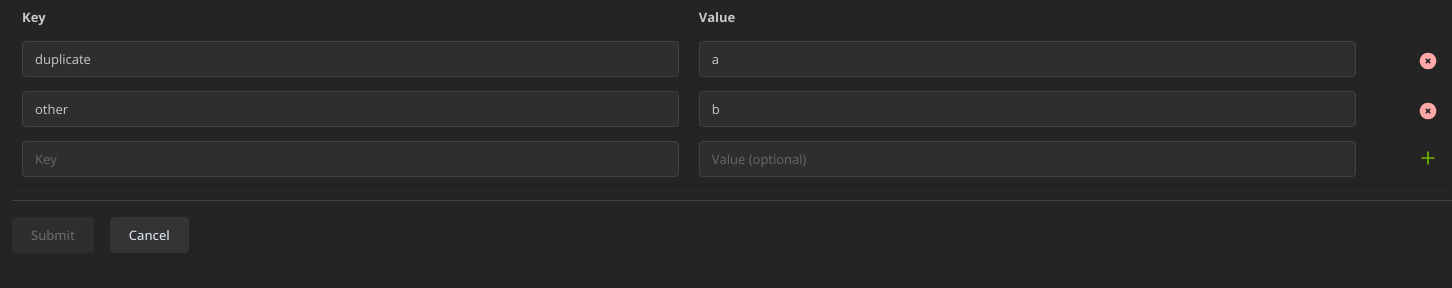
TagFormTable › disables submit when validation error exists
Add duplicate key
In the field with placeholder "Key": (350, 159) [22,141,679,177], type "duplicate"
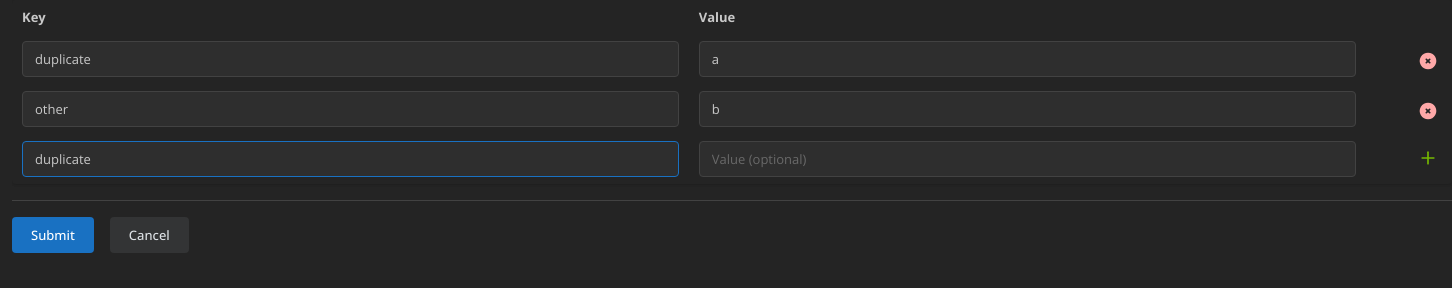
In the field with placeholder "Value (optional)": (1027, 159) [699,141,1356,177], type "val"
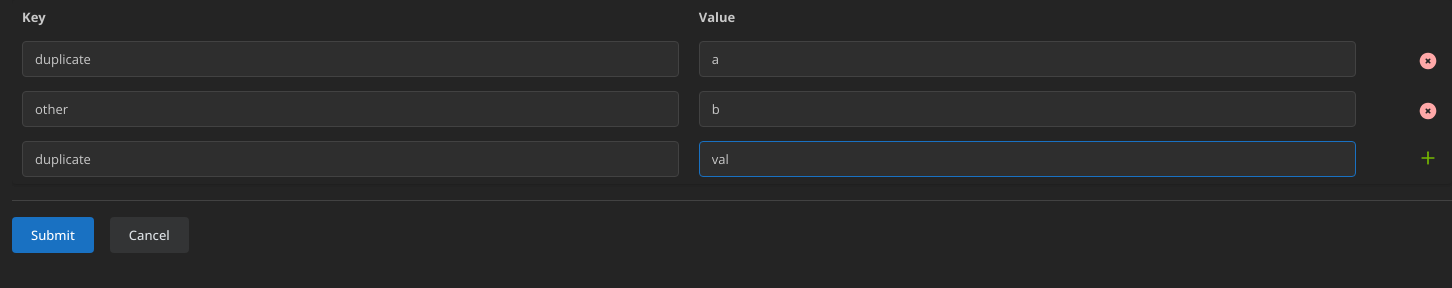
Click the button titled "Add tag": (1428, 155) [1414,141,1442,169]
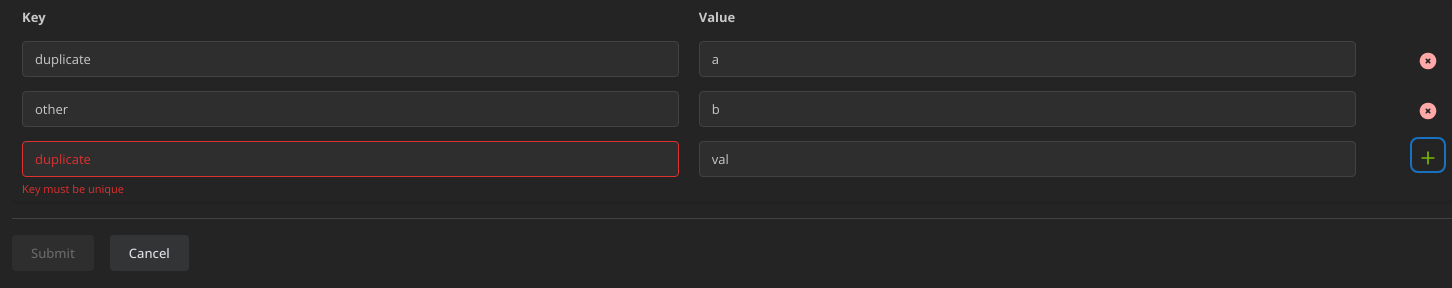
Expected: the button "Submit" is disabled, [12,235,94,271]
